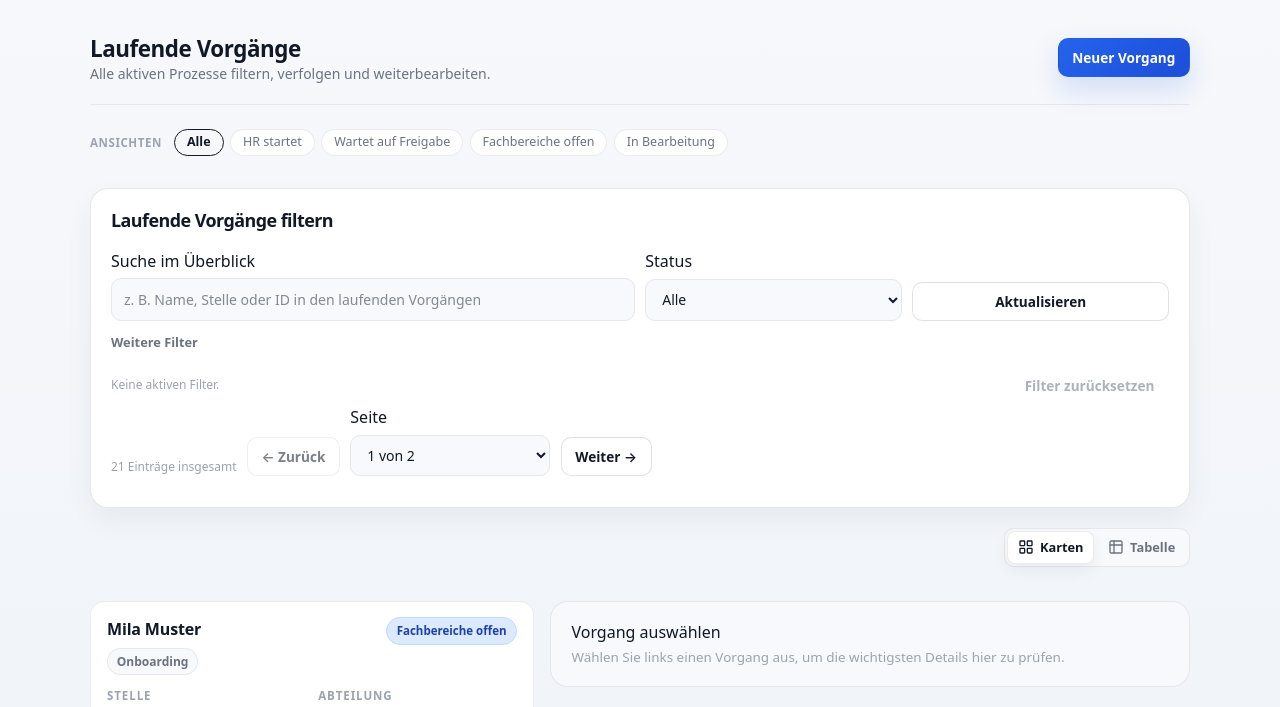
WorkflowListPage › ignores stale page responses after filters reset the page index
This screenshot has width=1280, height=707.
Expected: the heading "Mila Muster" is shown, [107,617,201,642]
Click the button with aria-label "Nächste Seite": (606, 457) [561,437,652,476]
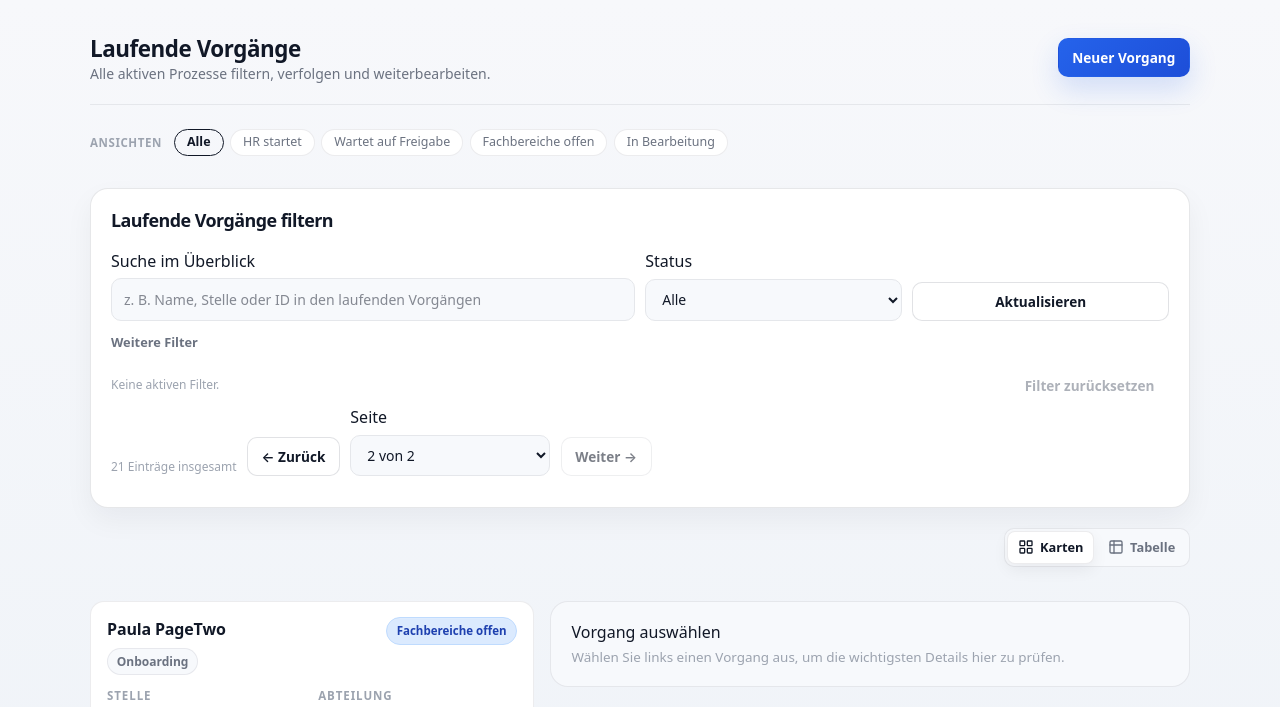
Expected: the heading "Paula PageTwo" is shown, [107,617,226,642]
Select "Abgeschlossen" in the dropdown labelled "Status": (774, 300) [645,279,902,321]
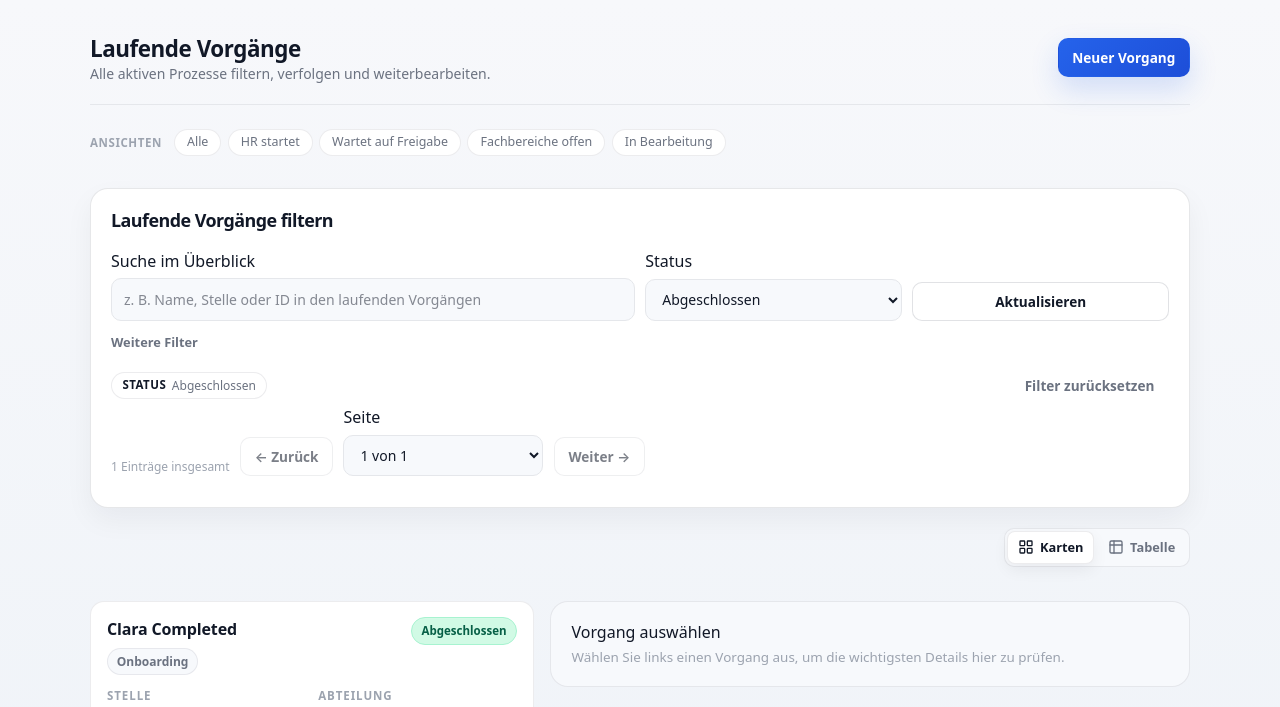
Expected: the heading "Clara Completed" is shown, [107,617,237,642]
